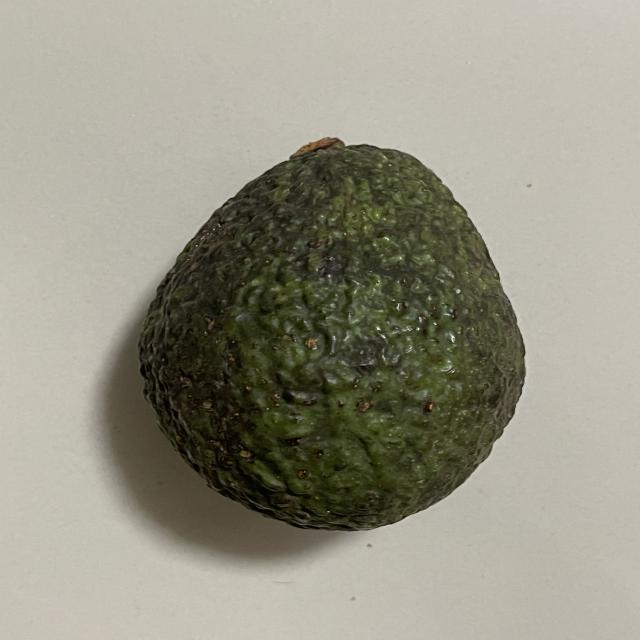avocado: (120, 119, 554, 545)
